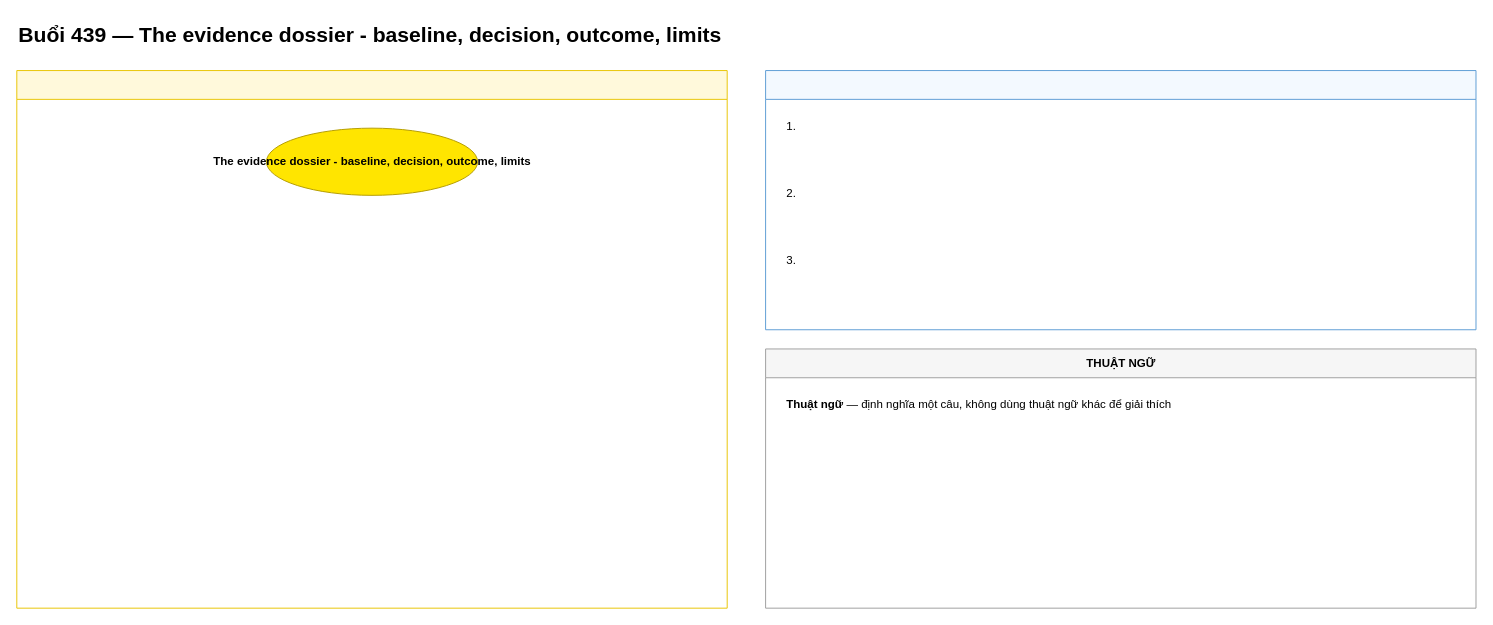
Some shapes in this 1493 by 625 pixel diagram are drawn without their labels. The box of each missing label's shape, as (x1, y1, x2, y2) in pixels:
KEY TAKEAWAY — ba điều phải nhớ: (765, 70, 1476, 330)
MINDMAP: (16, 70, 727, 608)
